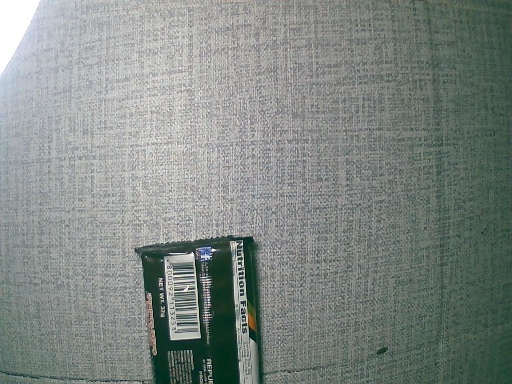plastic: (136, 236, 265, 384)
